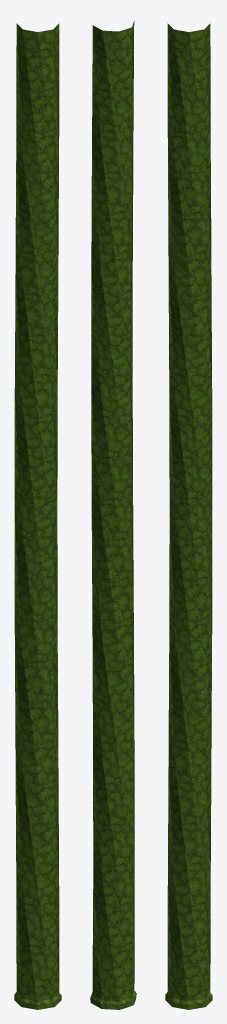
The model's file is SM_Pillar.glb.
3 views of the same model, side by side, from view 1: azimuth 90°, elevation 25°; view 2: azimuth 150°, elevation 25°; view 3: azimuth 270°, elevation 25° (orthographic).
Parts seen in each view (by area): view 1: SM_Pillar; view 2: SM_Pillar; view 3: SM_Pillar.
Part boxes in pixels (left/top/right/bottom): SM_Pillar: left=14, top=23, right=61, bottom=1009; SM_Pillar: left=90, top=21, right=136, bottom=1009; SM_Pillar: left=165, top=23, right=212, bottom=1009.
Size of the model in its own units: 2.11 by 48 by 2.11.
Materials: 1 (1 with a texture image).
